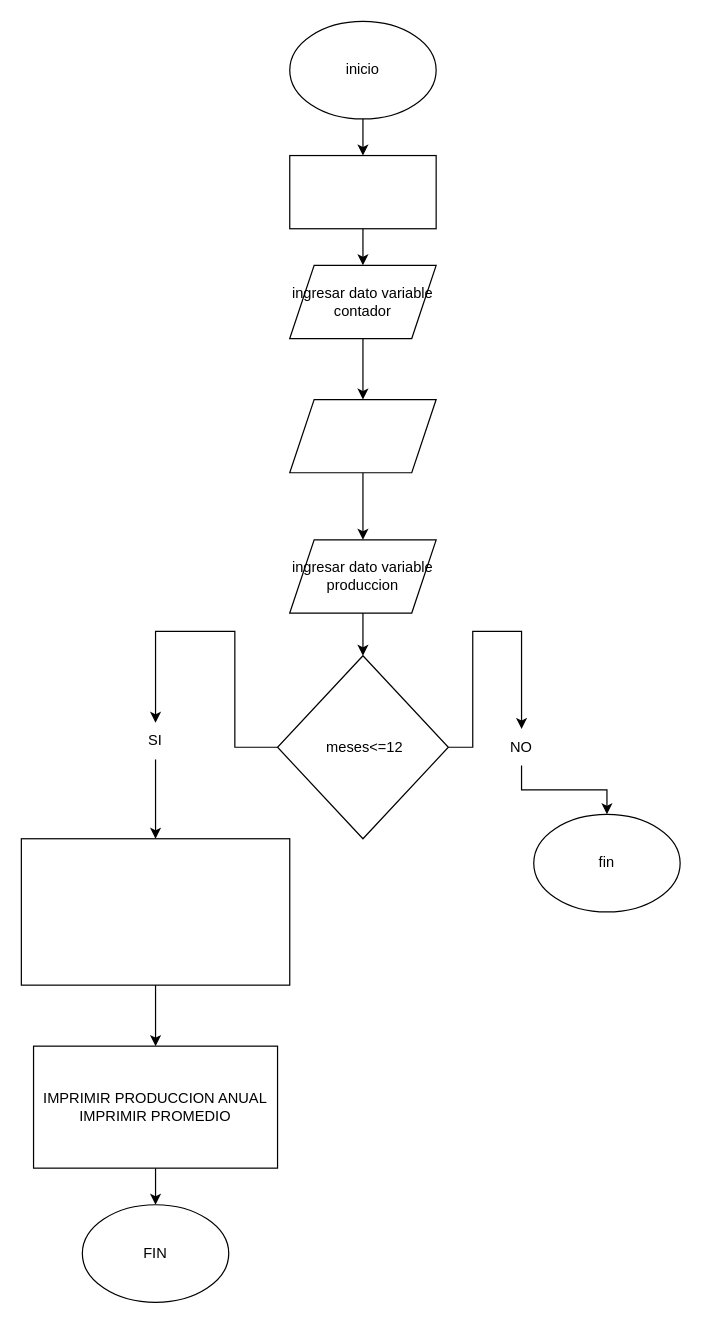
Some shapes in this 702 by 1324 pixel diagram are drawn without their labels. The shapes that lost their labels are listed below. From the top down, each one's centre as x and y in pixels, then its label:
the point at 362,191: llamar Scanner
the point at 362,435: ingresar dato sumatoria
the point at 155,911: LEA DATO DE CADA MES ACUMULAR EN VARIABLE SUMATORIA INCREMENTAR CONTADOR
